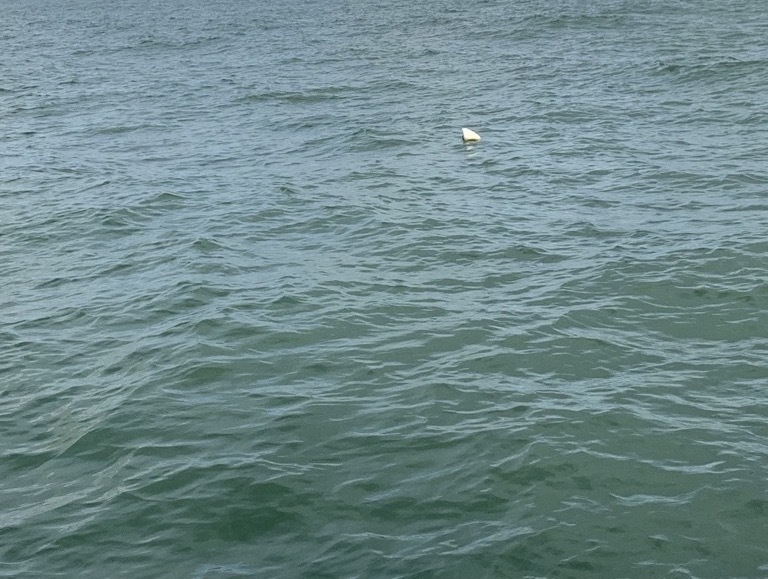plastic: (448, 112, 497, 172)
